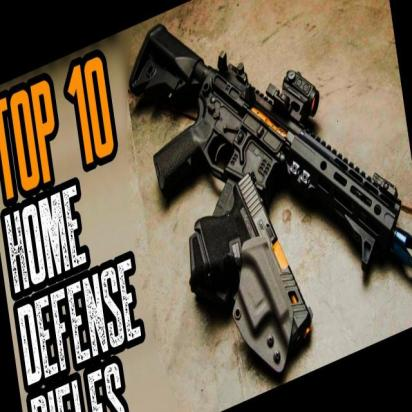Gun: (132, 20, 412, 245)
